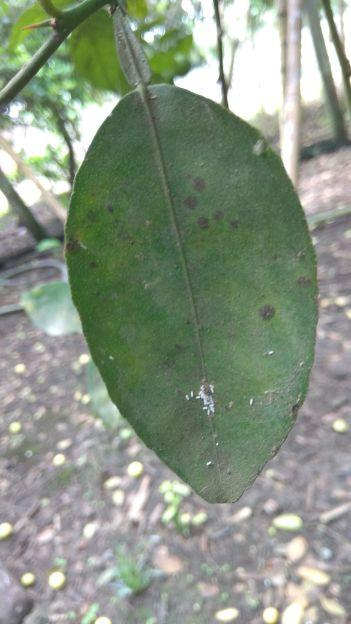Myzus persicae: (196, 382, 213, 414)
